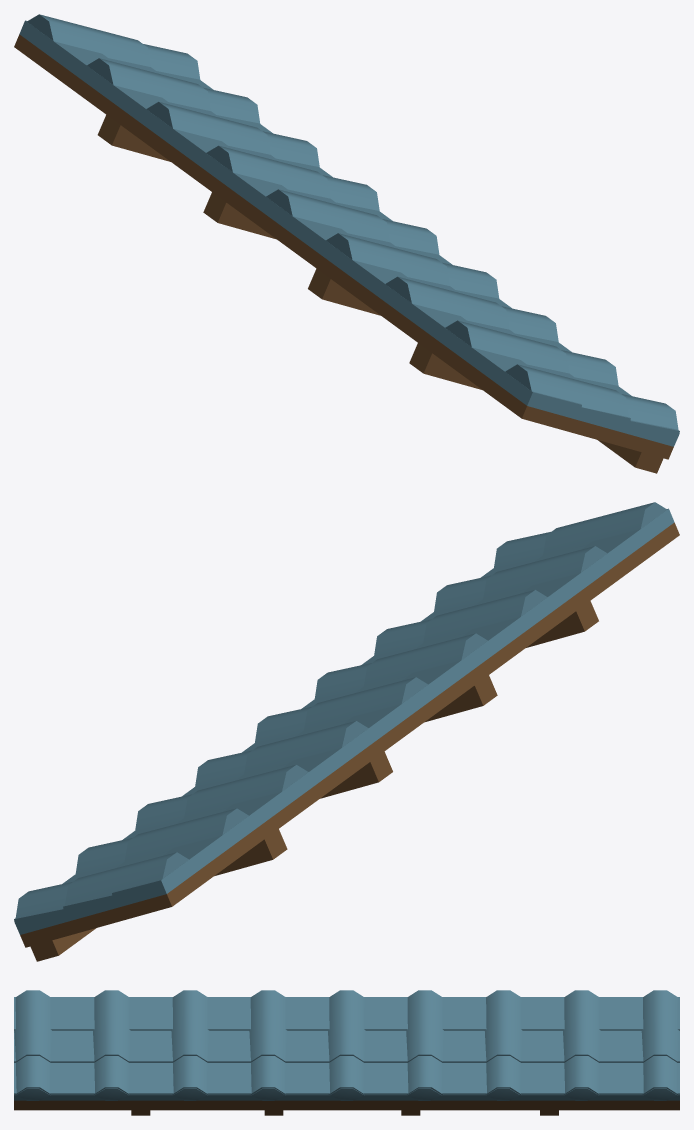
File: BlueRoof_Short_Half.fbx
The picture shows the model from 3 angles, top to bottom: view 1: azimuth 30°, elevation 25°; view 2: azimuth 150°, elevation 25°; view 3: azimuth 270°, elevation 25°; orthographic projection. The views are drawn at different scales.
Visible parts, largest first — view 1: BlueRoof_Short_Half; view 2: BlueRoof_Short_Half; view 3: BlueRoof_Short_Half.
Boxes of the visible parts, bbox=[...] form: BlueRoof_Short_Half: bbox=[14, 14, 679, 473]; BlueRoof_Short_Half: bbox=[14, 502, 679, 961]; BlueRoof_Short_Half: bbox=[14, 990, 679, 1115].
Size of what is drawn, in the model's own units: 70.48 by 51.4 by 360.
